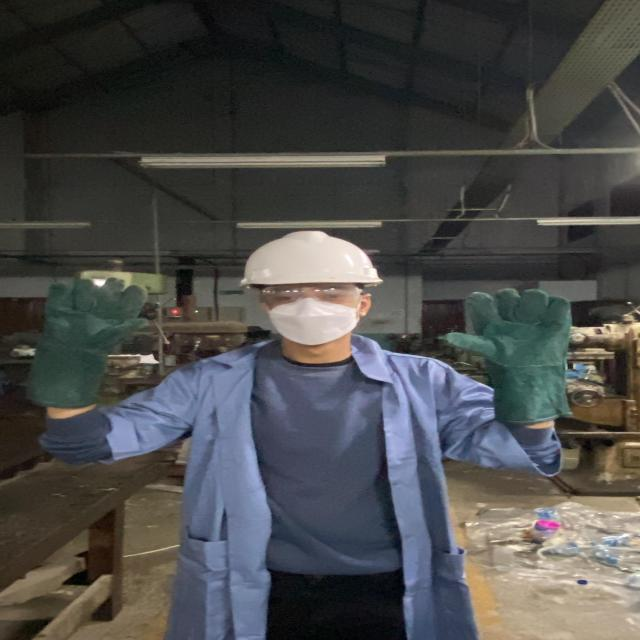glasses: (255, 284, 367, 304)
